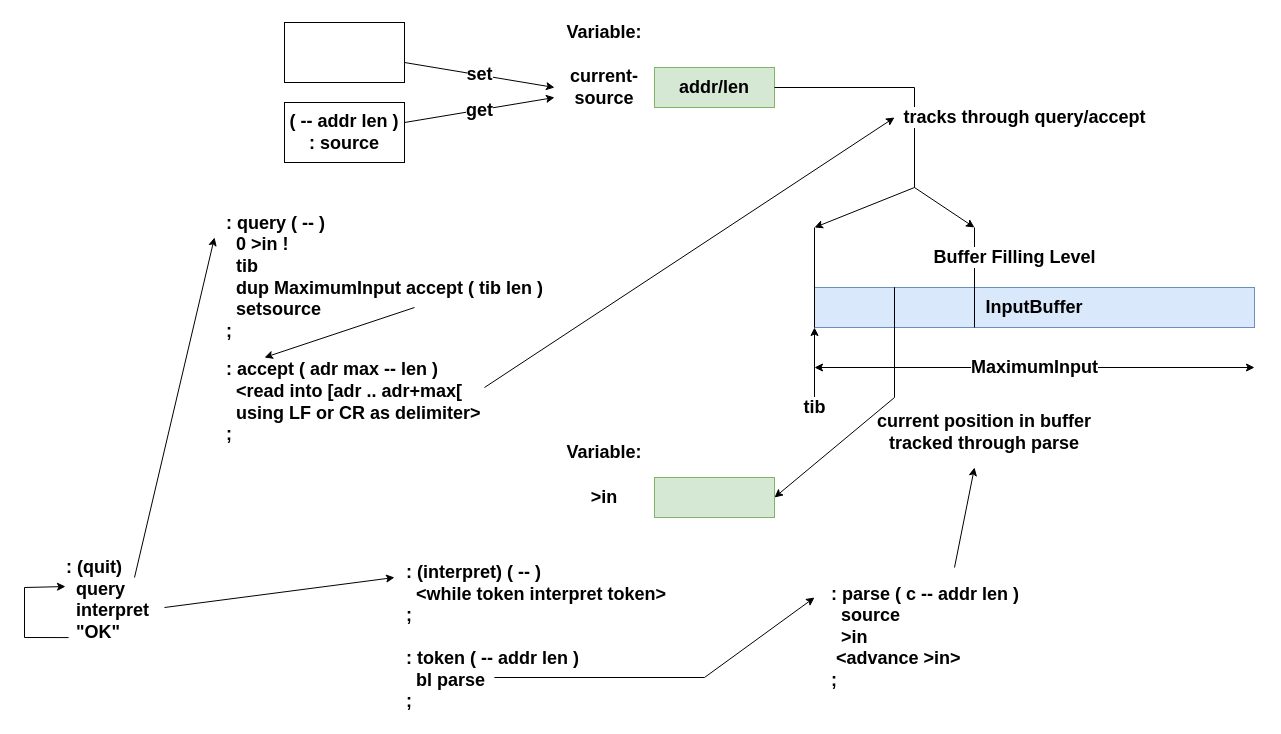
This 1281x734 diagram has some shape labels left out. The centre of each missing label's shape, as x and y in pixels:
( addr len -- ) : setsource: (x=344, y=52)
offset: (x=714, y=497)
